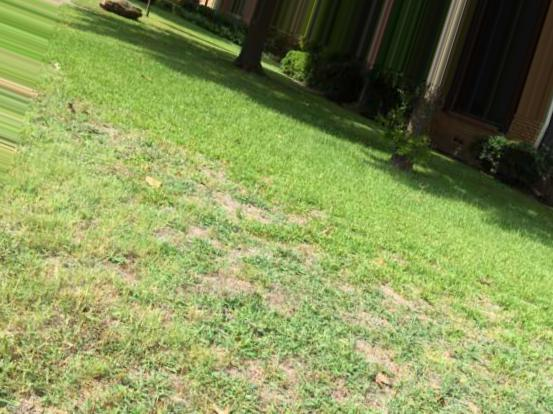patch: (145, 150, 280, 254), (288, 243, 414, 350), (42, 227, 157, 317), (60, 113, 150, 224), (160, 316, 273, 404), (175, 259, 287, 342), (396, 310, 502, 384)
